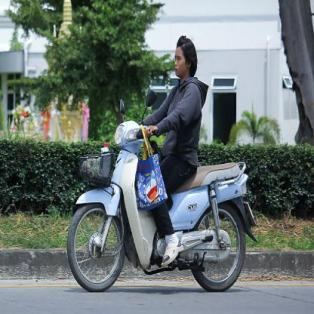Motocicleta: (65, 101, 256, 296)
